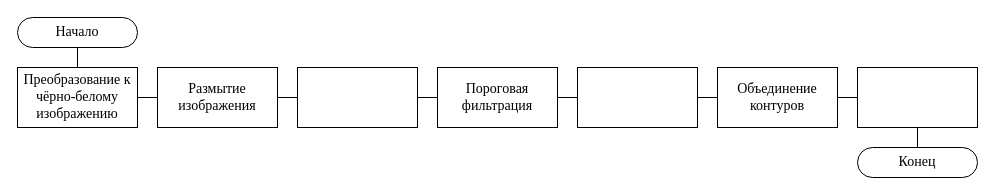
This 995x195 diagram has some shape labels left out. The centre of each missing label's shape, as x and y in pixels:
"Выделение краёв" goes at [357,97].
"Выделение фрагмента изображения" goes at [917,97].
"Морфологические преобразования" goes at [637,97].
